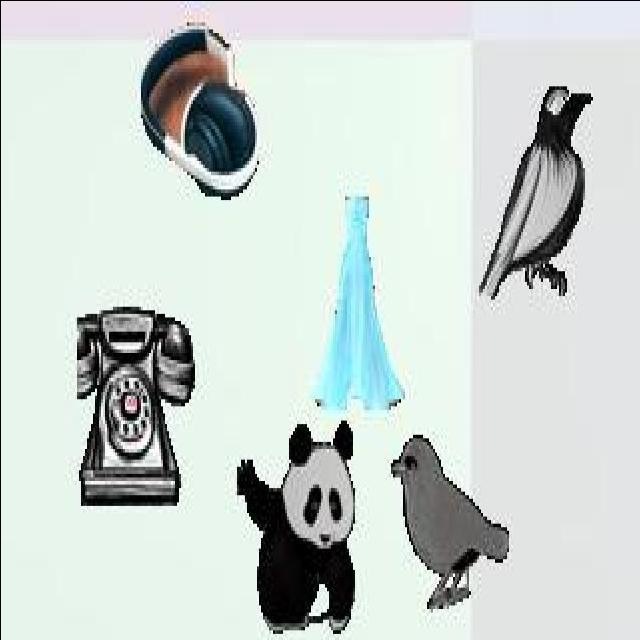Other Objects: (477, 83, 592, 299), (75, 304, 194, 508), (138, 21, 260, 200), (389, 430, 509, 610), (313, 191, 407, 414)
